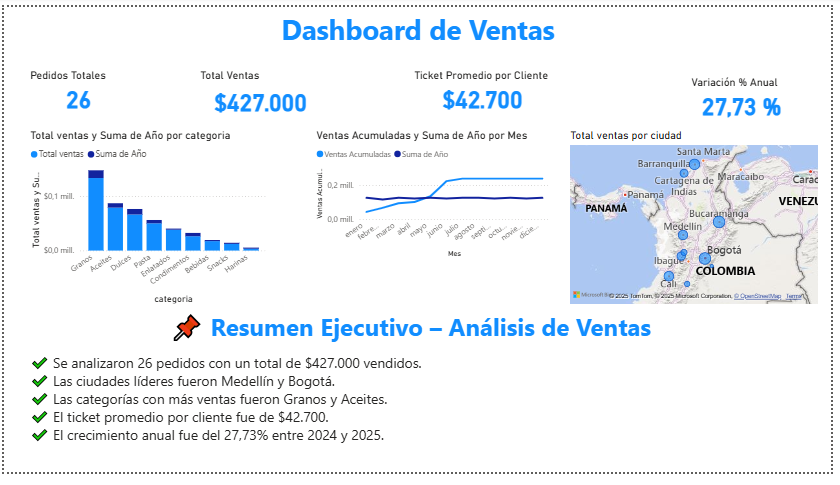

The page's visual inventory and layout, read from the dashboard file:
{"tool":"powerbi","page":{"name":"Storytelling","canvas":[1280,720],"ordinal":1},"visuals":[{"type":"textbox","box":[35.6,464.3,1188.7,233.7],"z":0},{"type":"card","title":"Total Ventas","fields":{"Values":["Tabla_Medidas.Total ventas"]},"box":[298.7,96,196.6,80.5],"z":1000},{"type":"card","title":"Ticket Promedio por Cliente","fields":{"Values":["Tabla_Medidas.Tickets Promedio por Cliente"]},"box":[629.9,96,221.3,69.6],"z":2000},{"type":"card","title":"Variación % Anual","fields":{"Values":["Tabla_Medidas.Variacion % Anual"]},"box":[1058.7,106.8,165.6,69.6],"z":3000},{"type":"columnChart","fields":{"Category":["productos.categoria"],"Y":["Tabla_Medidas.Total ventas","Sum(Calendario.Año)"]},"box":[35.6,188.8,376.1,275.5],"z":4000},{"type":"lineChart","fields":{"Category":["Calendario.Date.Variación.Jerarquía de fechas.Mes"],"Y":["Tabla_Medidas.Ventas Acumuladas","Sum(Calendario.Año)"]},"box":[478.3,188.8,369.9,204.3],"z":5000},{"type":"map","fields":{"Category":["clientes.ciudad"],"Size":["Tabla_Medidas.Total ventas"]},"box":[871.4,188.8,393.1,275.5],"z":6000},{"type":"card","title":"Pedidos Totales","fields":{"Values":["Tabla_Medidas.Pedidos Totales"]},"box":[35.6,96,159.4,69.6],"z":7000},{"type":"textbox","box":[335.9,0,609.8,78.9],"z":7001}]}

Visuals, with their boxes in screenshot pixels (x1, y1, x2, y2), scaled from the page's 1280x720 canvas onto the 840x485 screenshot:
textbox: (left=23, top=313, right=803, bottom=470)
"Total Ventas" card: (left=196, top=65, right=325, bottom=119)
"Ticket Promedio por Cliente" card: (left=413, top=65, right=559, bottom=112)
"Variación % Anual" card: (left=695, top=72, right=803, bottom=119)
columnChart - productos.categoria x Tabla_Medidas.Total ventas: (left=23, top=127, right=270, bottom=313)
lineChart - Calendario.Date.Variación.Jerarquía de fechas.Mes x Tabla_Medidas.Ventas Acumuladas: (left=314, top=127, right=557, bottom=265)
map - clientes.ciudad x Tabla_Medidas.Total ventas: (left=572, top=127, right=830, bottom=313)
"Pedidos Totales" card: (left=23, top=65, right=128, bottom=112)
textbox: (left=220, top=0, right=621, bottom=53)
